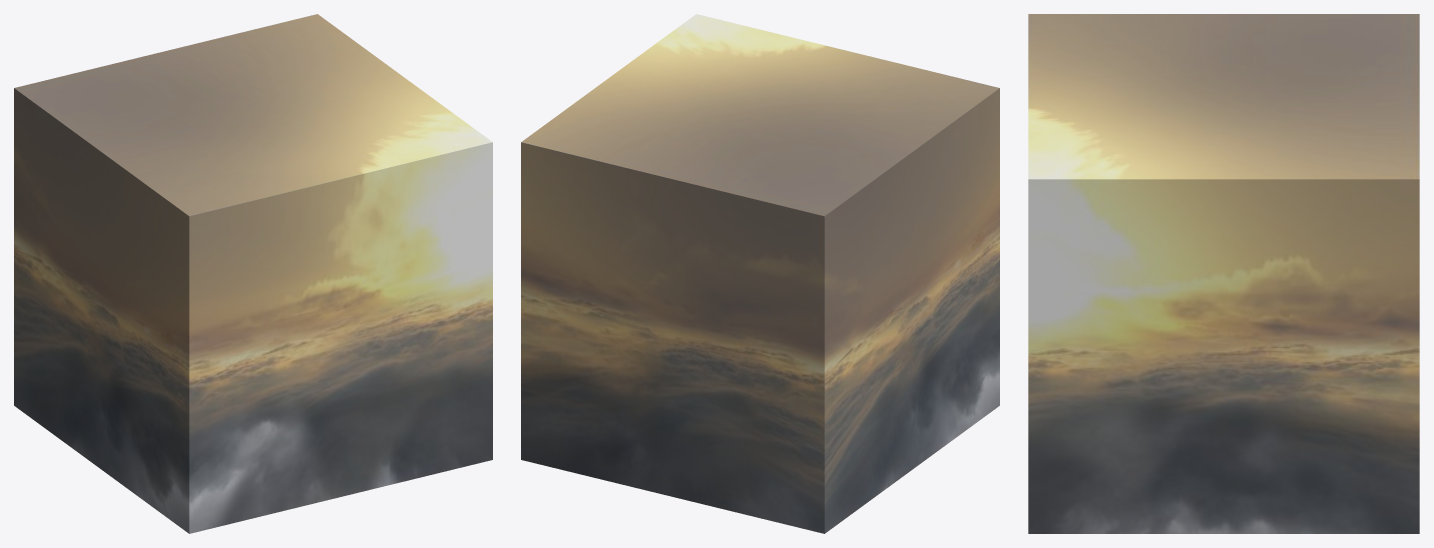
The model's file is FirstLevelFull.obj.
3 renders of one model, left to right at view 1: azimuth 30°, elevation 25°; view 2: azimuth 150°, elevation 25°; view 3: azimuth 270°, elevation 25°, orthographic. The views are drawn at different scales.
Visible parts, largest first — view 1: SkyBox_SkyBoxMesh; view 2: SkyBox_SkyBoxMesh; view 3: SkyBox_SkyBoxMesh.
Boxes of the visible parts, <box> form: SkyBox_SkyBoxMesh: <box>14,14,492,533</box>; SkyBox_SkyBoxMesh: <box>521,14,999,533</box>; SkyBox_SkyBoxMesh: <box>1028,14,1419,533</box>.
Size of the model in its own units: 29.85 by 29.85 by 29.85.
3 materials, 3 textured.
